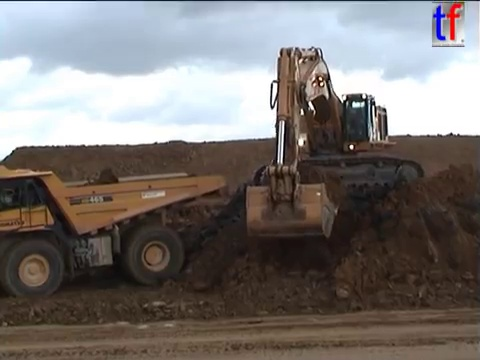excavator: (242, 43, 427, 242)
truck: (1, 162, 228, 301)
